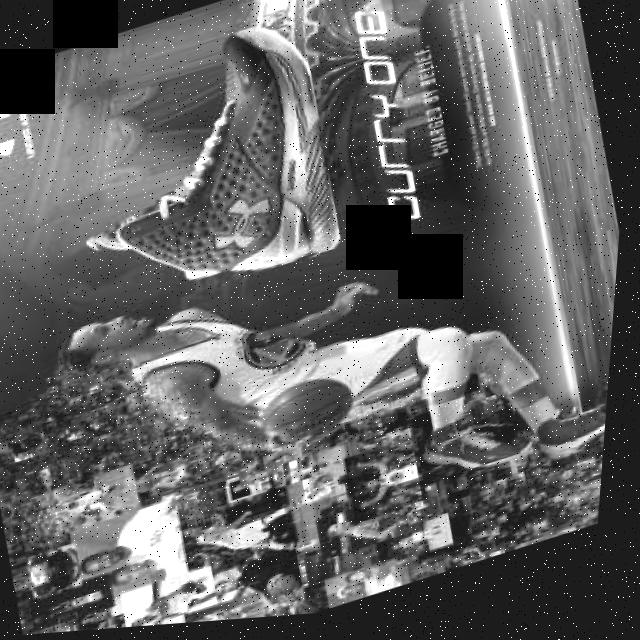shoe: (46, 10, 360, 328), (417, 403, 534, 491), (531, 390, 615, 474)
